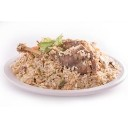briyani: (17, 41, 117, 84)
